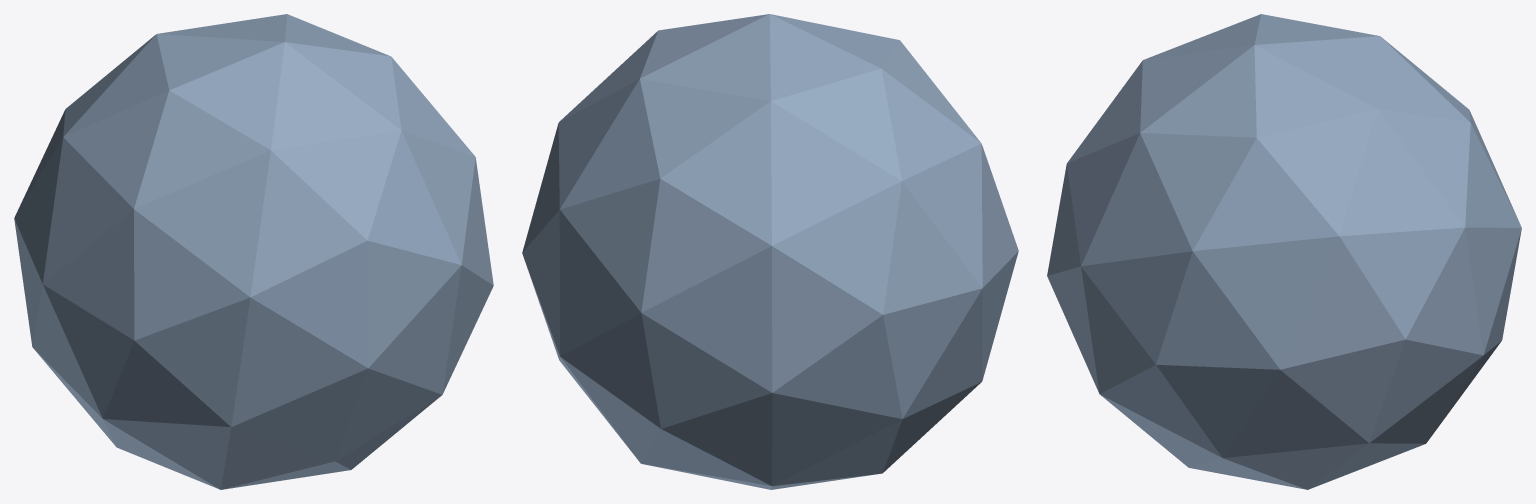
Rendered from JavaBall.glb.
3 renders of one model, left to right at view 1: azimuth 30°, elevation 25°; view 2: azimuth 150°, elevation 25°; view 3: azimuth 270°, elevation 25°, orthographic. The views are drawn at different scales.
Parts seen in each view (by area): view 1: Icosphere, Icosphere.001; view 2: Icosphere, Icosphere.001; view 3: Icosphere.001, Icosphere.
Part boxes in pixels (x1,y1,x2,y2): Icosphere: (14, 90, 493, 489); Icosphere.001: (63, 14, 475, 156); Icosphere: (522, 40, 1018, 489); Icosphere.001: (522, 14, 901, 356); Icosphere.001: (1140, 14, 1521, 369); Icosphere: (1047, 60, 1521, 489).
Bounding box in the file's own units: 1.99 × 1.98 × 1.98.
